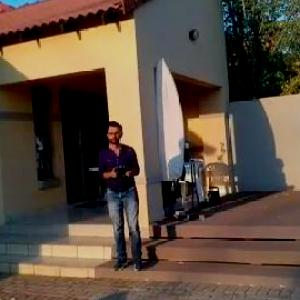follow: (92, 116, 144, 276)
